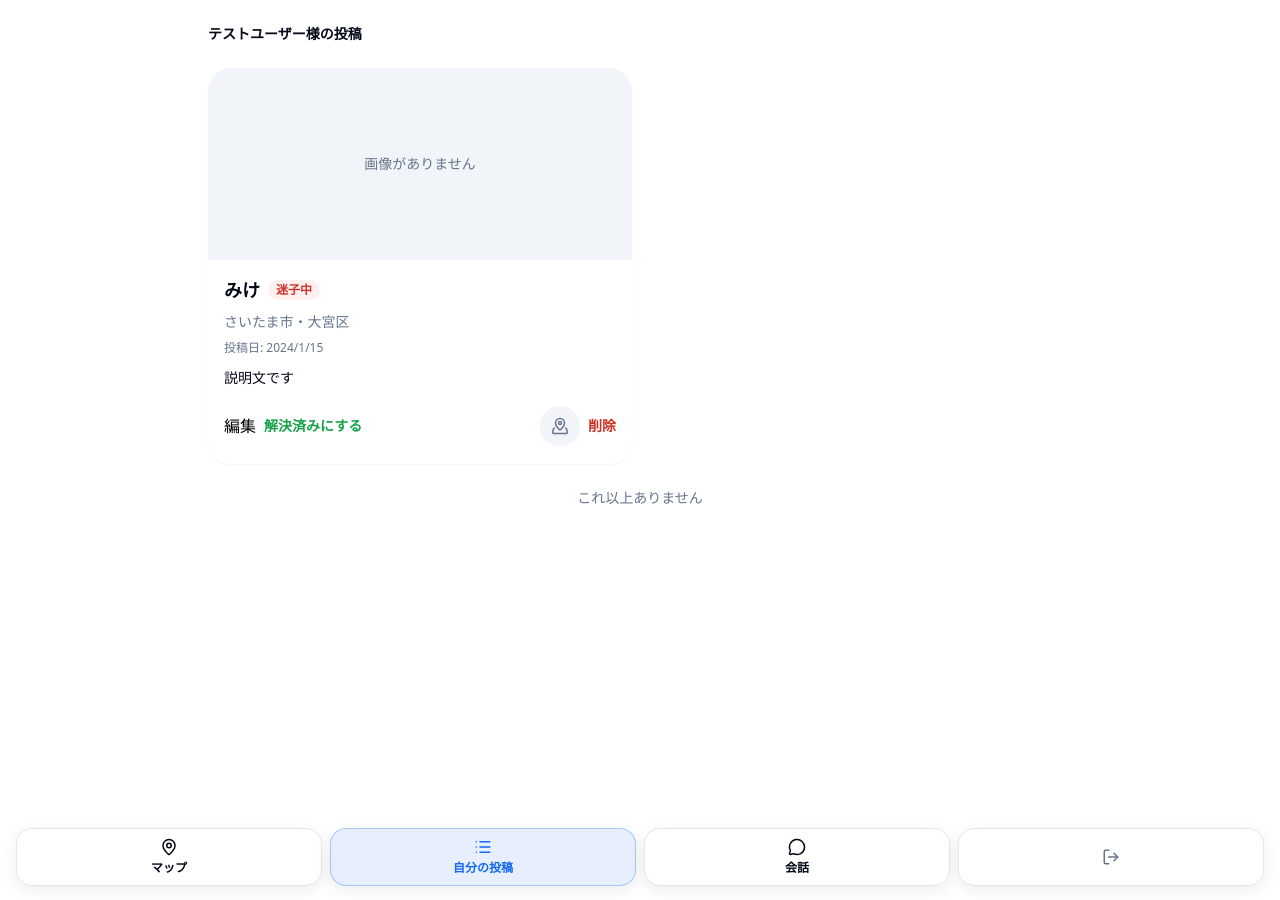
Posts › 削除フロー › Deleteボタンをクリックした時、AlertDialogが表示されること
This screenshot has width=1280, height=900.
Click the button "削除": click(602, 426) [588,404,616,448]
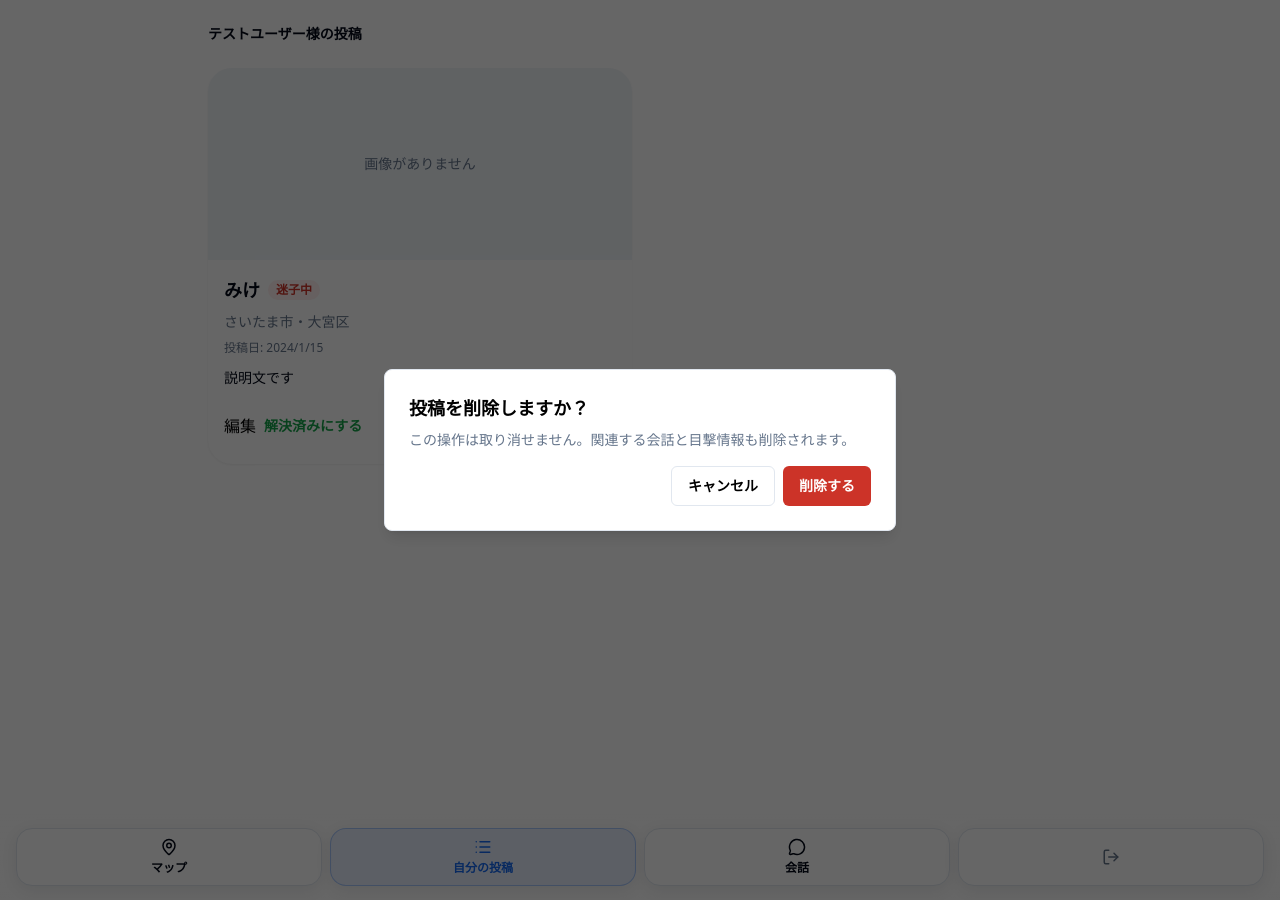
Result: the dialog is shown at [384,369,896,531]
Result: the heading "投稿を削除しますか？" is shown at [409,396,589,420]
